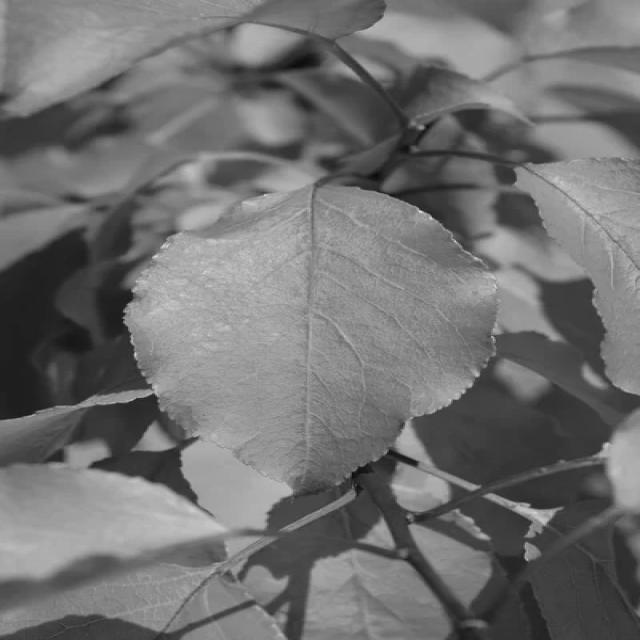yaprak: (147, 187, 592, 506)
